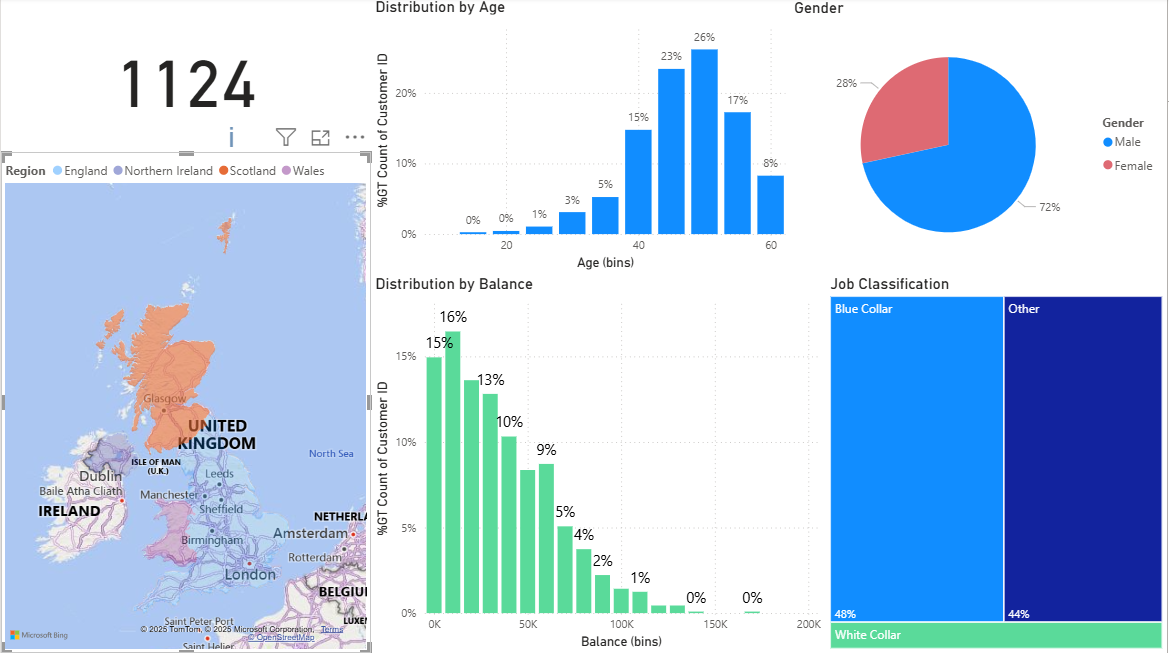

This screenshot's page, from the dashboard's own definition file:
{"tool":"powerbi","page":{"name":"BI report","canvas":[1280,720],"ordinal":5},"visuals":[{"type":"filledMap","fields":{"Series":["S05-CreatingInteractiveBIReport UK-Bank-Customers.Region"],"Category":["S05-CreatingInteractiveBIReport UK-Bank-Customers.Region"]},"box":[0,170,405.7,550],"z":0},{"type":"card","fields":{"Values":["CountNonNull(S05-CreatingInteractiveBIReport UK-Bank-Customers.Customer ID)"]},"box":[0,0,405.7,170],"z":1000},{"type":"pieChart","title":"Gender","fields":{"Category":["S05-CreatingInteractiveBIReport UK-Bank-Customers.Gender"],"Y":["CountNonNull(S05-CreatingInteractiveBIReport UK-Bank-Customers.Customer ID)"]},"box":[865.7,1.4,414.3,302.9],"z":2000},{"type":"columnChart","title":"Distribution by Age","fields":{"Category":["S05-CreatingInteractiveBIReport UK-Bank-Customers.Age (bins)"],"Y":["CountNonNull(S05-CreatingInteractiveBIReport UK-Bank-Customers.Customer ID)"]},"box":[405.7,0,460,304.3],"z":3000},{"type":"columnChart","title":"Distribution by Balance","fields":{"Category":["S05-CreatingInteractiveBIReport UK-Bank-Customers.Balance (bins)"],"Y":["CountNonNull(S05-CreatingInteractiveBIReport UK-Bank-Customers.Customer ID)"]},"box":[405.7,304.3,500,415.7],"z":4000},{"type":"treemap","title":"Job Classification","fields":{"Group":["S05-CreatingInteractiveBIReport UK-Bank-Customers.Job Classification"],"Values":["CountNonNull(S05-CreatingInteractiveBIReport UK-Bank-Customers.Customer ID)"]},"box":[905.7,304.3,374.3,415.7],"z":5000}]}

Visuals, with their boxes in screenshot pixels (x1, y1, x2, y2), scaled from the page's 1280x720 canvas onto the 1169x653 screenshot:
filledMap - S05-CreatingInteractiveBIReport UK-Bank-Customers.Region x S05-CreatingInteractiveBIReport UK-Bank-Customers.Region: bbox=[0, 154, 371, 652]
card - CountNonNull(S05-CreatingInteractiveBIReport UK-Bank-Customers.Customer ID): bbox=[0, 0, 371, 154]
"Gender" pieChart: bbox=[791, 1, 1168, 276]
"Distribution by Age" columnChart: bbox=[371, 0, 791, 276]
"Distribution by Balance" columnChart: bbox=[371, 276, 827, 652]
"Job Classification" treemap: bbox=[827, 276, 1168, 652]
